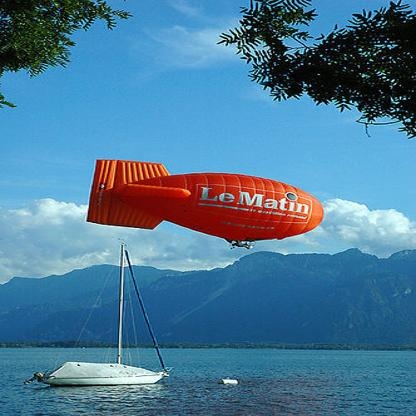Airship: (84, 155, 326, 255)
